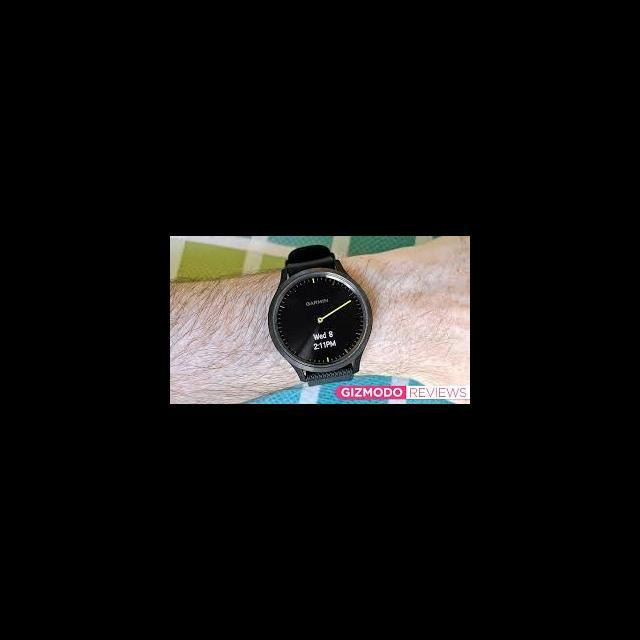watch: (262, 238, 380, 380)
